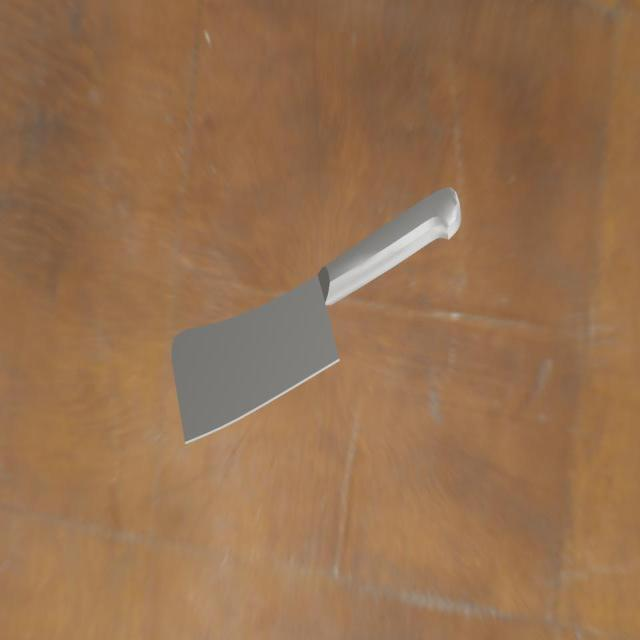knife: (318, 182, 468, 304)
